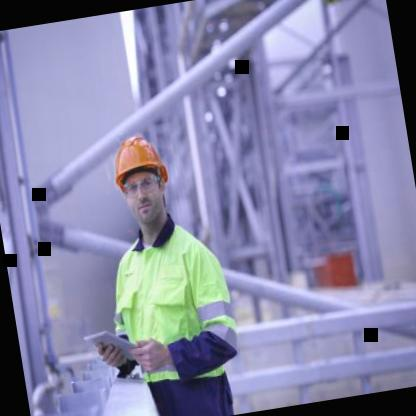helmet: (101, 122, 180, 240)
